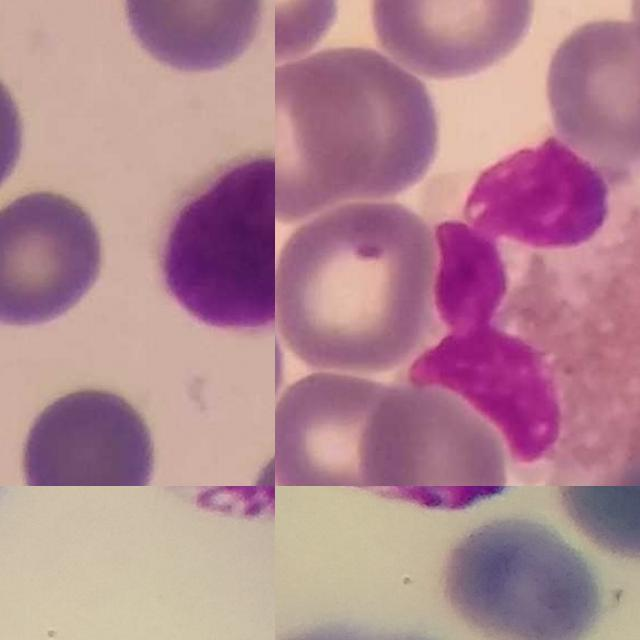Eosinophil: (414, 137, 640, 481)
Lymphocyte: (155, 149, 275, 339)
